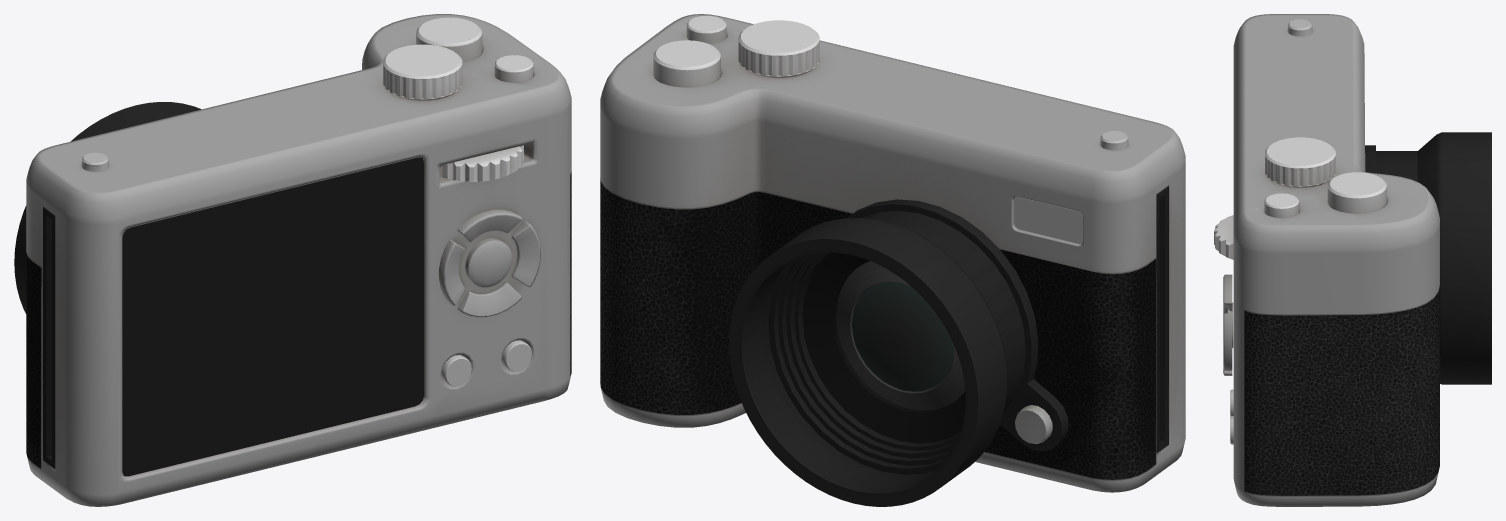
Rendered from Prop_Camera.glb.
The picture shows the model from 3 angles, left to right: view 1: azimuth 30°, elevation 25°; view 2: azimuth 150°, elevation 25°; view 3: azimuth 270°, elevation 25°; orthographic projection. The views are drawn at different scales.
Parts seen in each view (by area): view 1: Prop_Camera, shutter_release_button; view 2: Prop_Camera, shutter_release_button; view 3: Prop_Camera, shutter_release_button.
Boxes of the visible parts, <box> form: Prop_Camera: <box>14,14,571,506</box>; shutter_release_button: <box>416,17,482,62</box>; Prop_Camera: <box>600,14,1185,506</box>; shutter_release_button: <box>653,40,720,87</box>; Prop_Camera: <box>1214,14,1491,506</box>; shutter_release_button: <box>1327,172,1386,213</box>.
Size of the model in its own units: 0.1812 by 0.1157 by 0.0968.
1 material, 1 textured.
